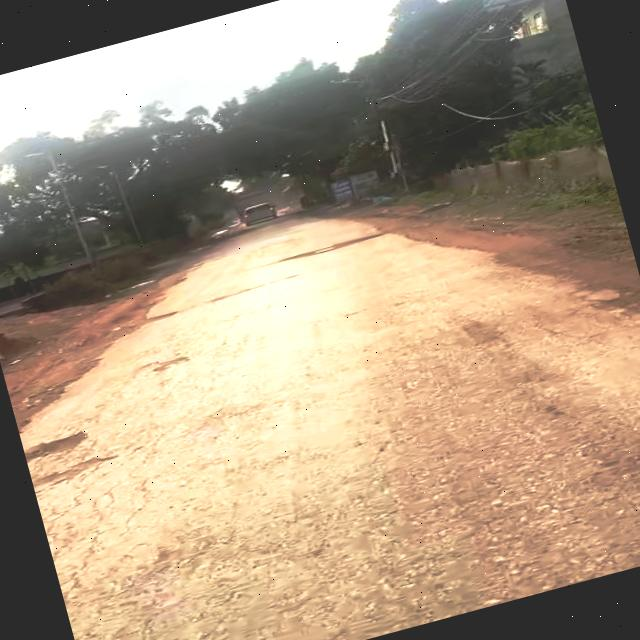pothole: (21, 421, 94, 460)
